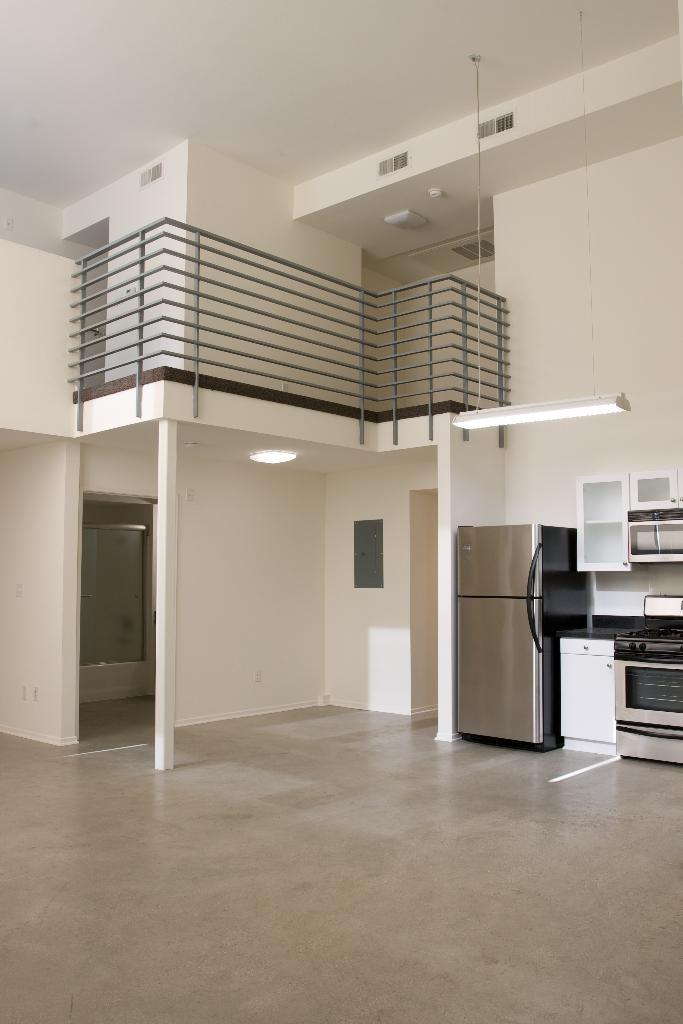cabinet_door: (577, 480, 628, 572), (632, 470, 677, 508)
handle: (526, 593, 542, 661), (527, 546, 542, 584)
